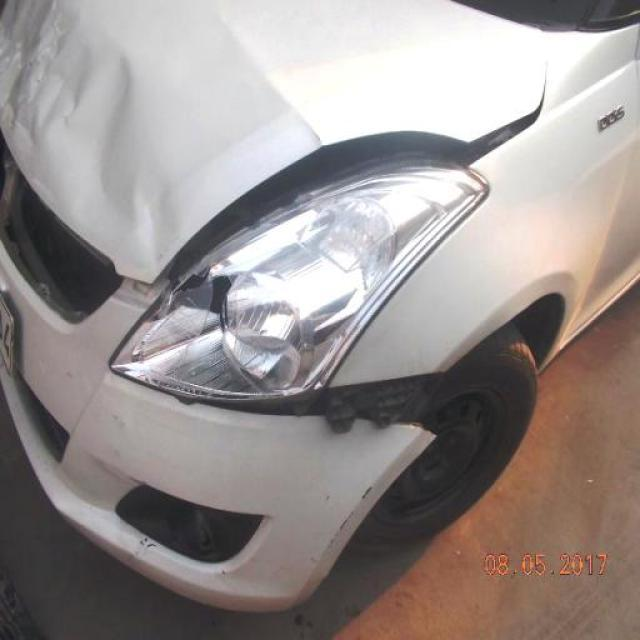car damage: (0, 324, 423, 376), (0, 281, 214, 374), (0, 134, 561, 150), (0, 132, 490, 150), (0, 326, 547, 332), (0, 253, 392, 257), (0, 0, 74, 1)
